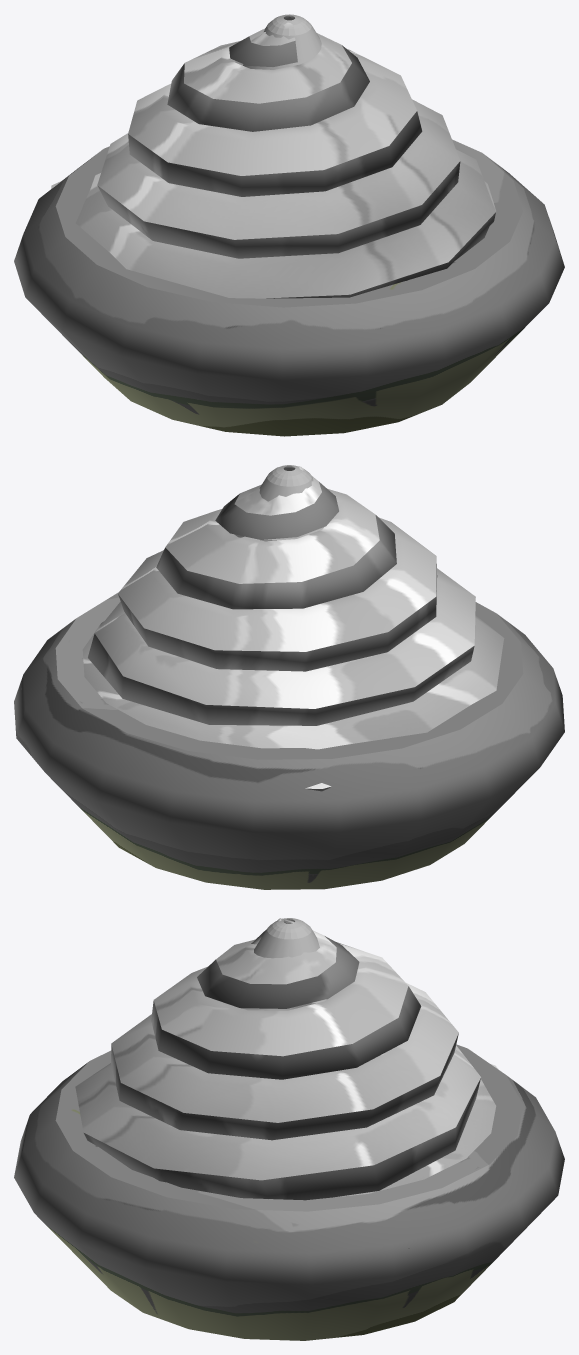
The model's file is Drillobject.fbx.
3 renders of one model, top to bottom at view 1: azimuth 30°, elevation 25°; view 2: azimuth 150°, elevation 25°; view 3: azimuth 270°, elevation 25°, orthographic.
Parts seen in each view (by area): view 1: turtle2_GEO, turtle13_GEO, turtle4_GEO, turtle1_GEO; view 2: turtle2_GEO, turtle13_GEO, turtle4_GEO, turtle1_GEO; view 3: turtle2_GEO, turtle13_GEO, turtle4_GEO, turtle1_GEO.
Part boxes in pixels (x1=…): turtle2_GEO: x1=14, y1=139, x2=564, y2=436; turtle13_GEO: x1=51, y1=22, x2=495, y2=298; turtle4_GEO: x1=97, y1=36, x2=495, y2=298; turtle1_GEO: x1=243, y1=14, x2=321, y2=69; turtle2_GEO: x1=14, y1=592, x2=564, y2=889; turtle13_GEO: x1=82, y1=466, x2=504, y2=788; turtle4_GEO: x1=88, y1=482, x2=474, y2=791; turtle1_GEO: x1=259, y1=465, x2=323, y2=538; turtle2_GEO: x1=14, y1=1044, x2=564, y2=1340; turtle13_GEO: x1=75, y1=918, x2=498, y2=1197; turtle4_GEO: x1=84, y1=930, x2=480, y2=1248; turtle1_GEO: x1=254, y1=918, x2=319, y2=958.
Bounding box in the file's own units: 5.5 × 3.72 × 5.5.
Materials: 4 (4 with a texture image).
